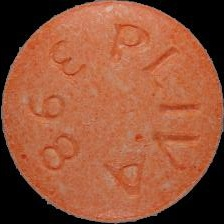51079-074: (0, 0, 224, 224)
